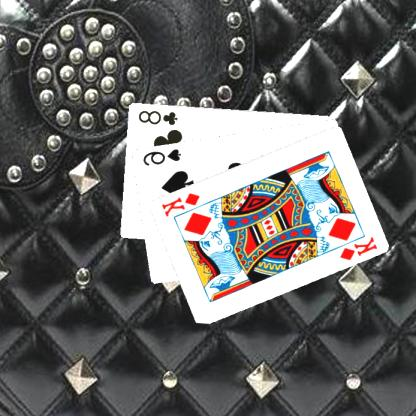6S: (141, 146, 184, 166)
8C: (138, 108, 180, 126)
KD: (160, 190, 203, 218), (338, 234, 381, 261)
